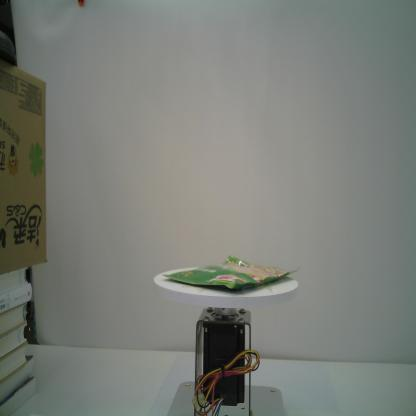Seasoner: (162, 254, 300, 290)
